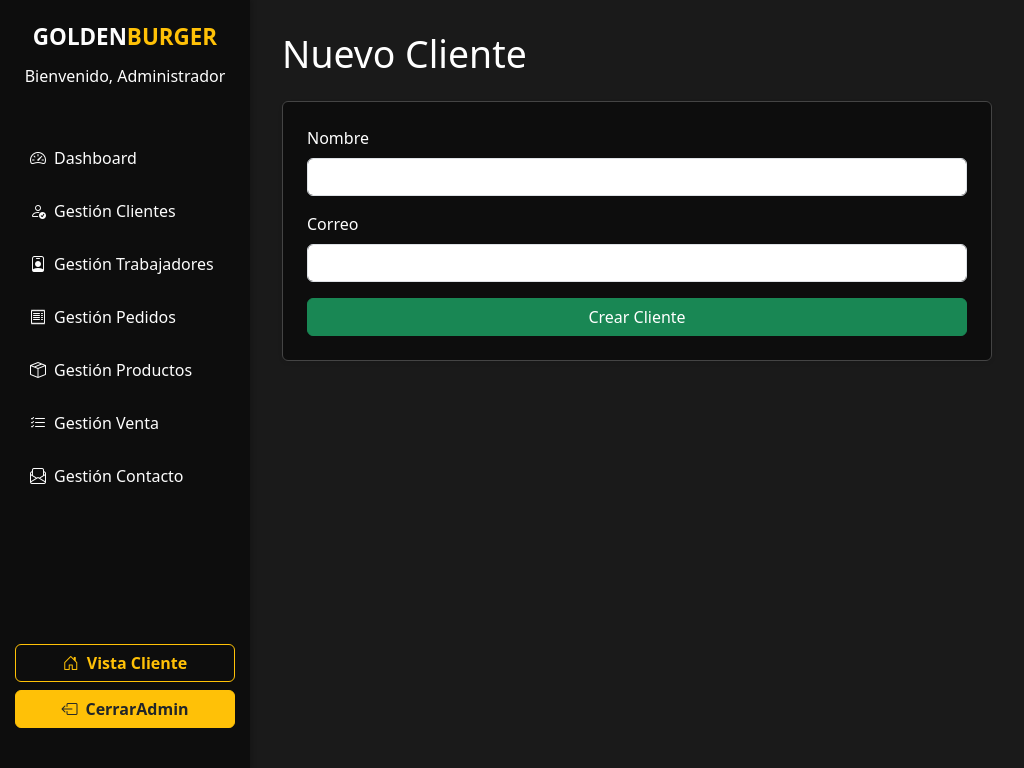
Test: NuevoCliente.jsx con validaciones visuales › debería mostrar mensajes de error en rojo si se intenta enviar vacío
Click the button "Crear Cliente": {"x": 637, "y": 317} [307, 298, 967, 336]
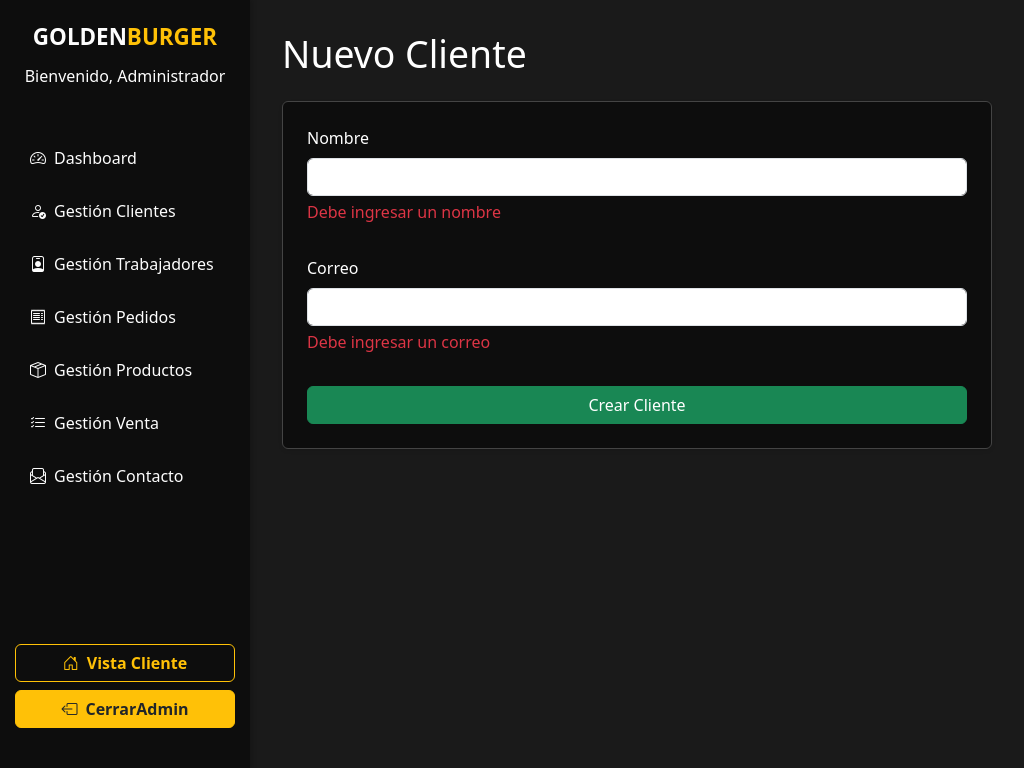
Expected: the text "Debe ingresar un nombre" is shown, [307, 201, 501, 223]
Expected: the text "Debe ingresar un correo" is shown, [307, 331, 490, 353]
